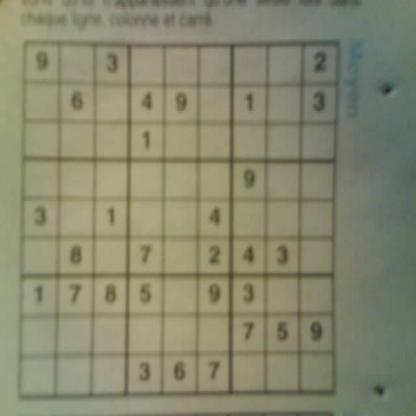sudoku: (15, 36, 344, 403)
